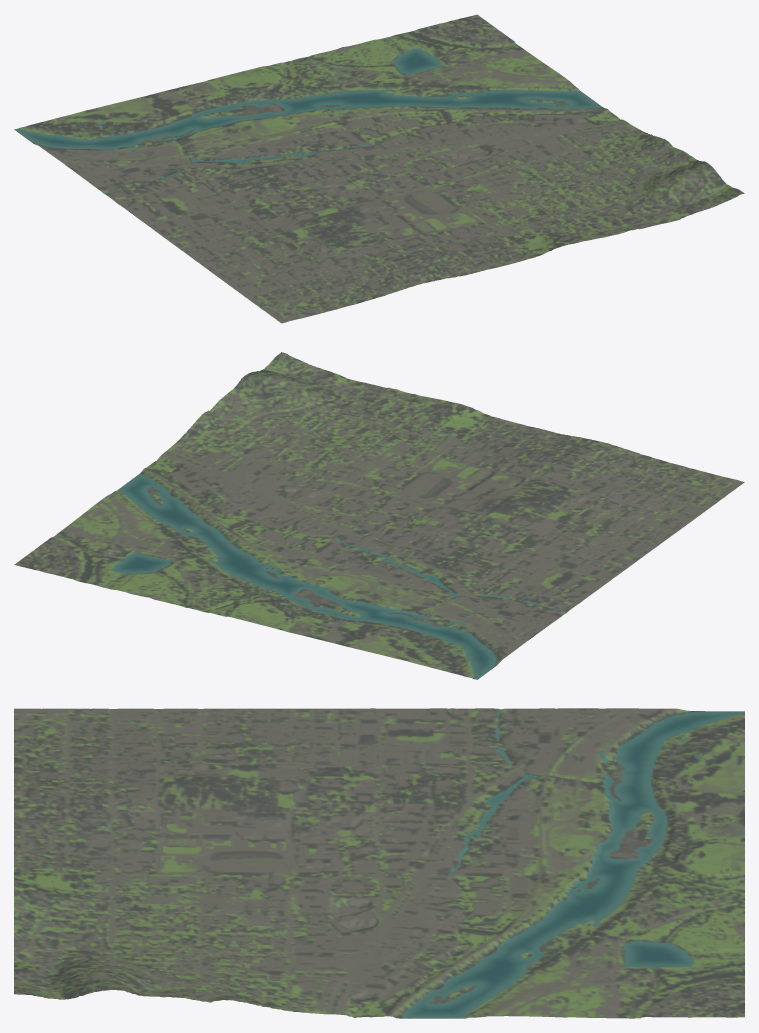
File: ground.glb
3 views of the same model, one above another, from view 1: azimuth 30°, elevation 25°; view 2: azimuth 150°, elevation 25°; view 3: azimuth 270°, elevation 25° (orthographic). The views are drawn at different scales.
Visible parts, largest first — view 1: Eugene terrain and land cover L2; view 2: Eugene terrain and land cover L2; view 3: Eugene terrain and land cover L2.
Boxes of the visible parts, bbox=[...] form: Eugene terrain and land cover L2: bbox=[14, 14, 744, 323]; Eugene terrain and land cover L2: bbox=[14, 352, 744, 679]; Eugene terrain and land cover L2: bbox=[14, 708, 744, 1018].
Size of the model in its own units: 2000 by 91.86 by 2000.
